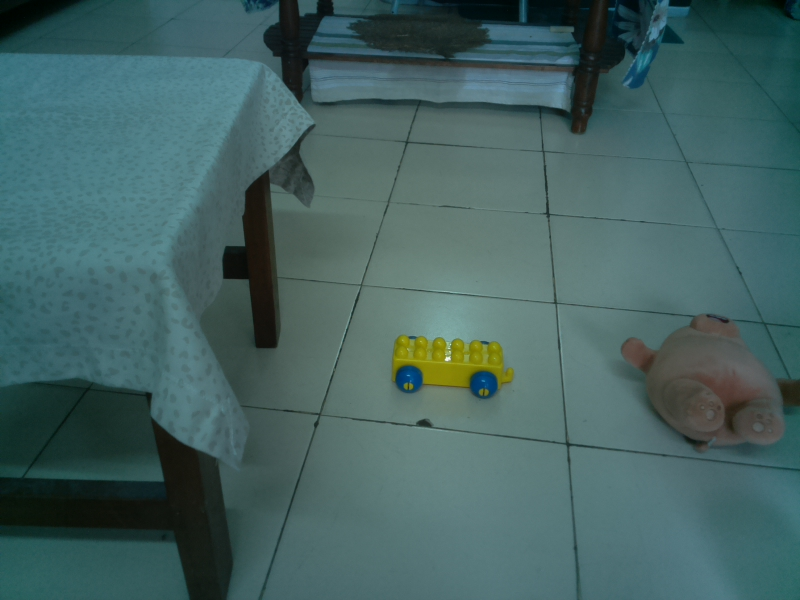toy_Car: (387, 330, 518, 404)
